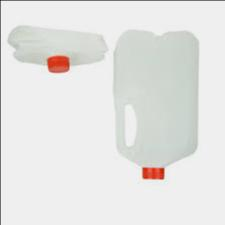Plastic: (107, 25, 202, 193), (4, 18, 106, 74)
